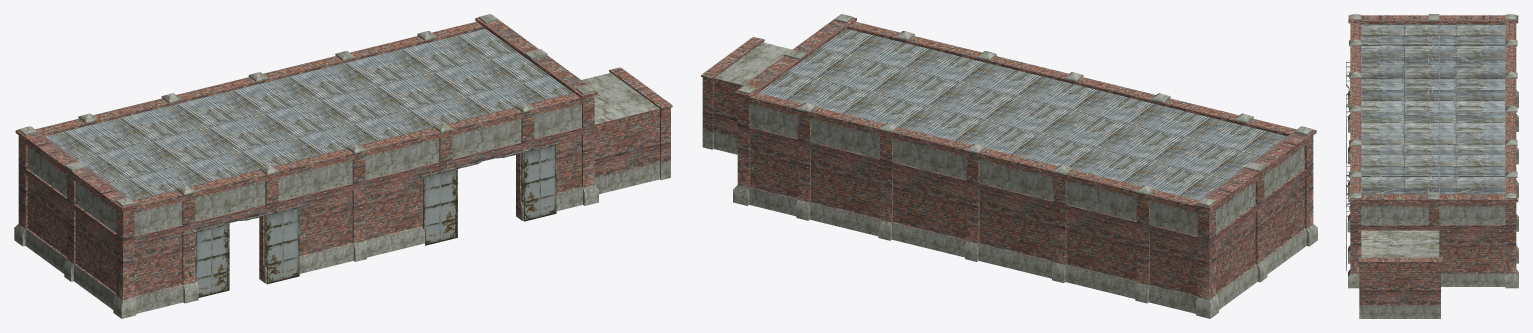
Rendered from building_7.FBX.
The picture shows the model from 3 angles, left to right: view 1: azimuth 30°, elevation 25°; view 2: azimuth 150°, elevation 25°; view 3: azimuth 270°, elevation 25°; orthographic projection. The views are drawn at different scales.
Visible parts, largest first — view 1: Mesh Object; view 2: Mesh Object; view 3: Mesh Object.
Boxes of the visible parts, <box> form: Mesh Object: <box>14,14,672,318</box>; Mesh Object: <box>701,14,1317,318</box>; Mesh Object: <box>1346,14,1518,318</box>.
Bounding box in the file's own units: 199 × 39.19 × 66.93.
